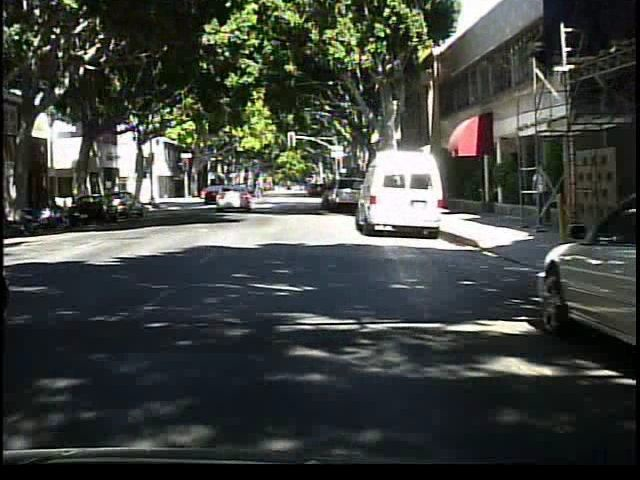person: (528, 162, 554, 233), (250, 175, 269, 208)
